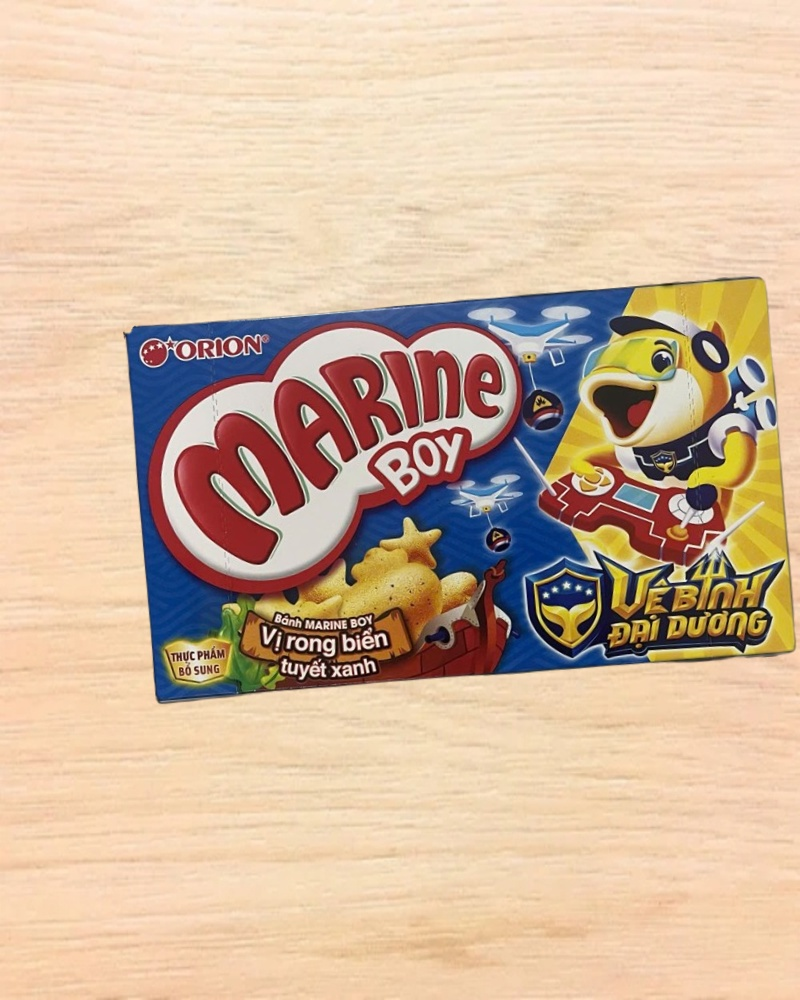Marine: (126, 272, 800, 709)
